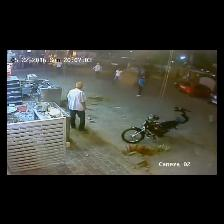person: (67, 83, 86, 130), (112, 68, 122, 84), (92, 62, 102, 78), (137, 77, 145, 96), (57, 61, 62, 73)
